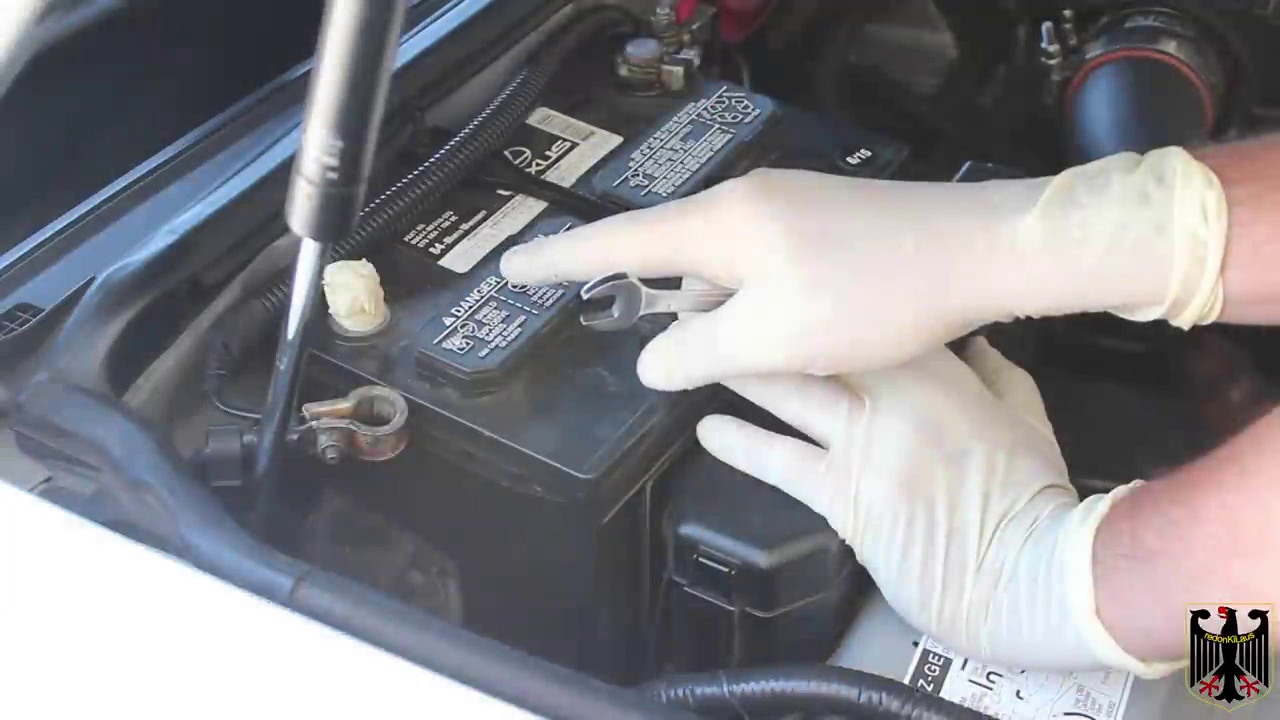battery: (286, 38, 907, 483)
